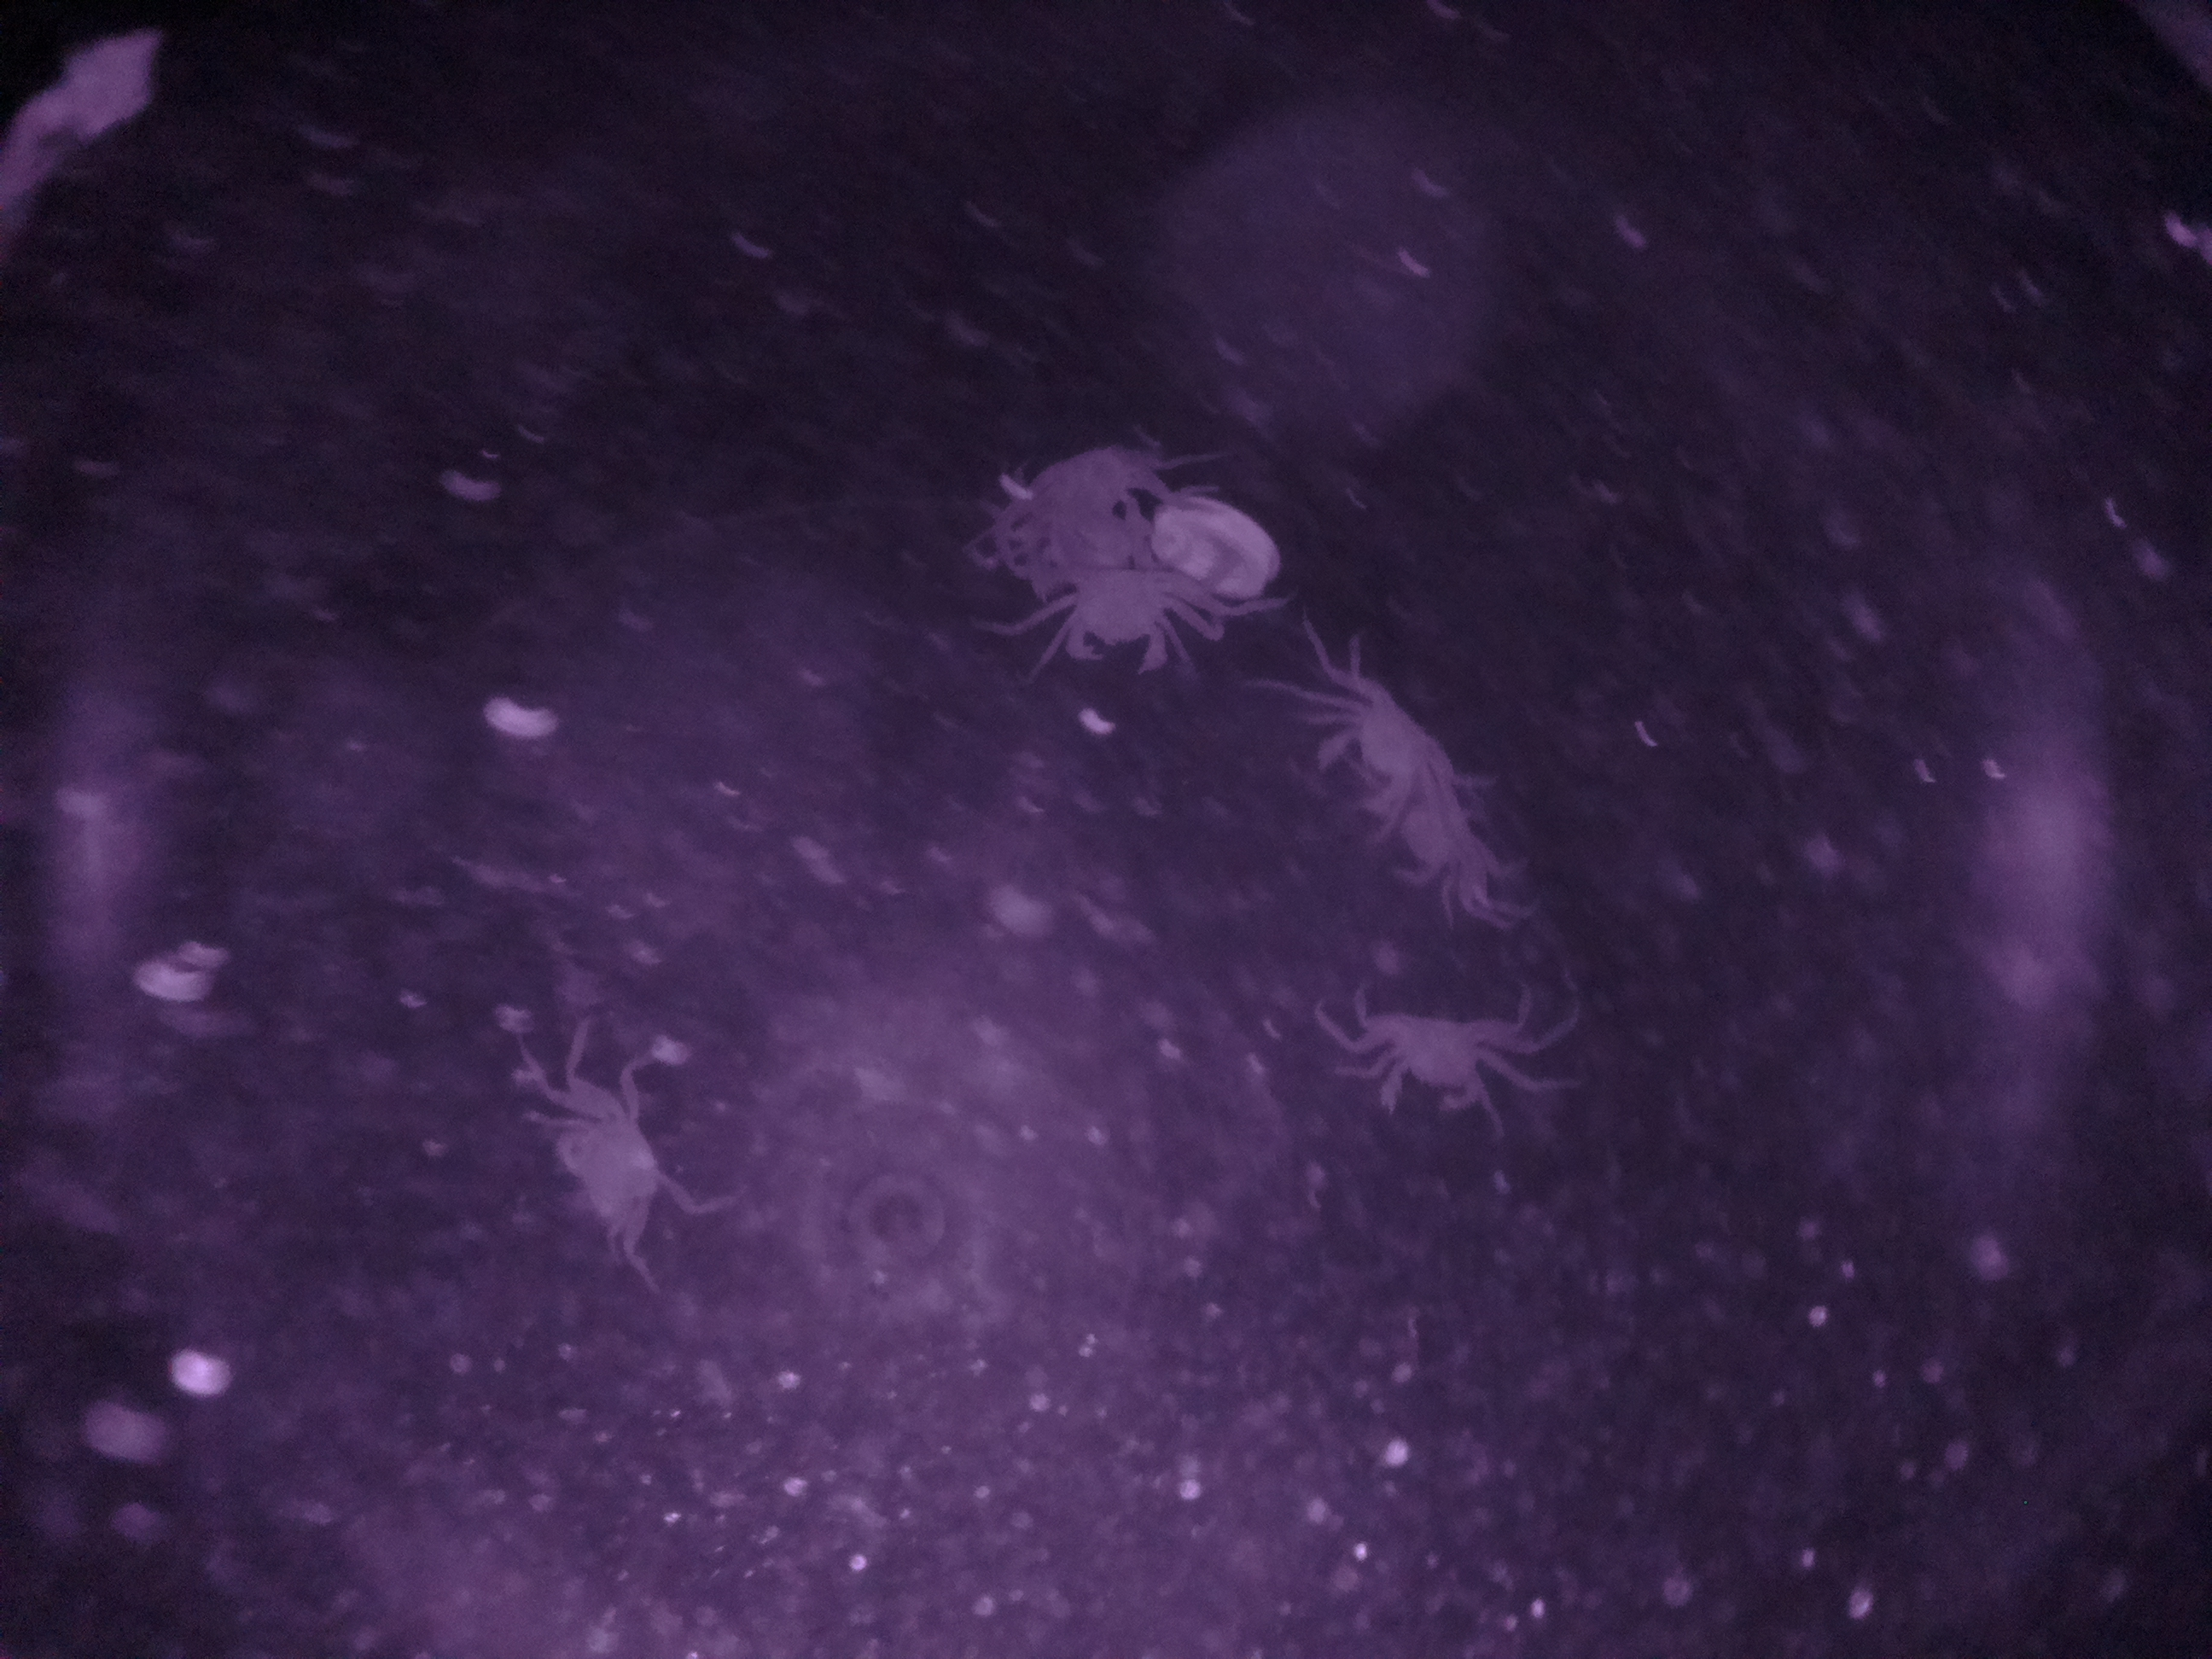Crab: (1317, 972, 1583, 1126), (1008, 551, 1223, 681)
